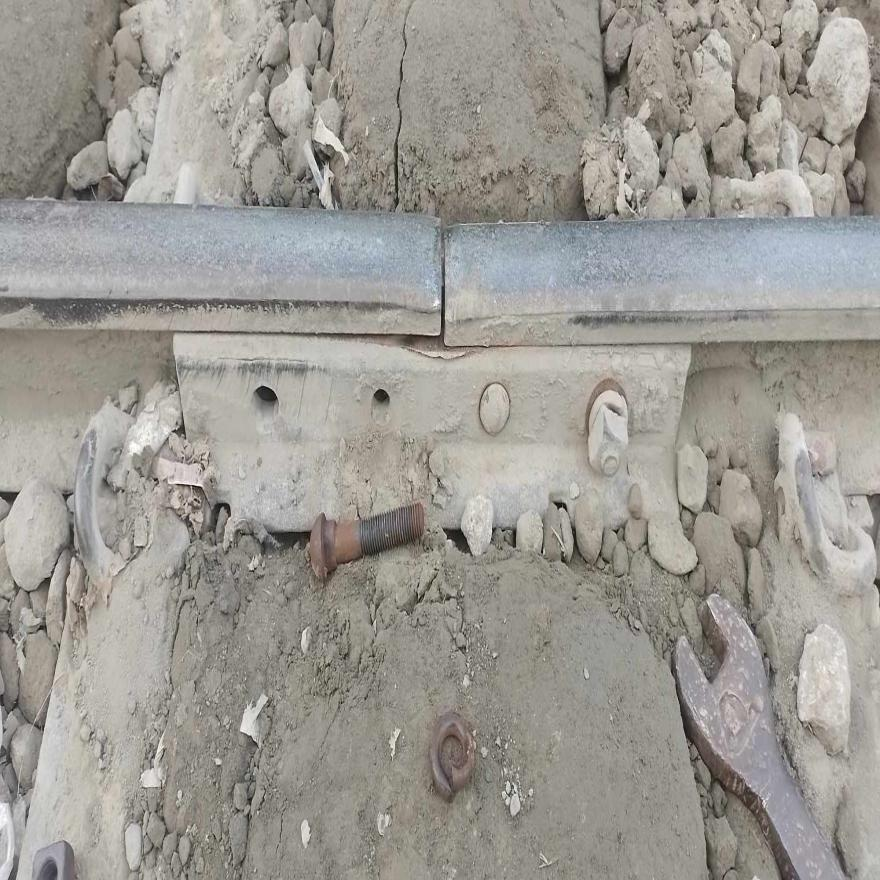railway-gap: (398, 199, 486, 371)
